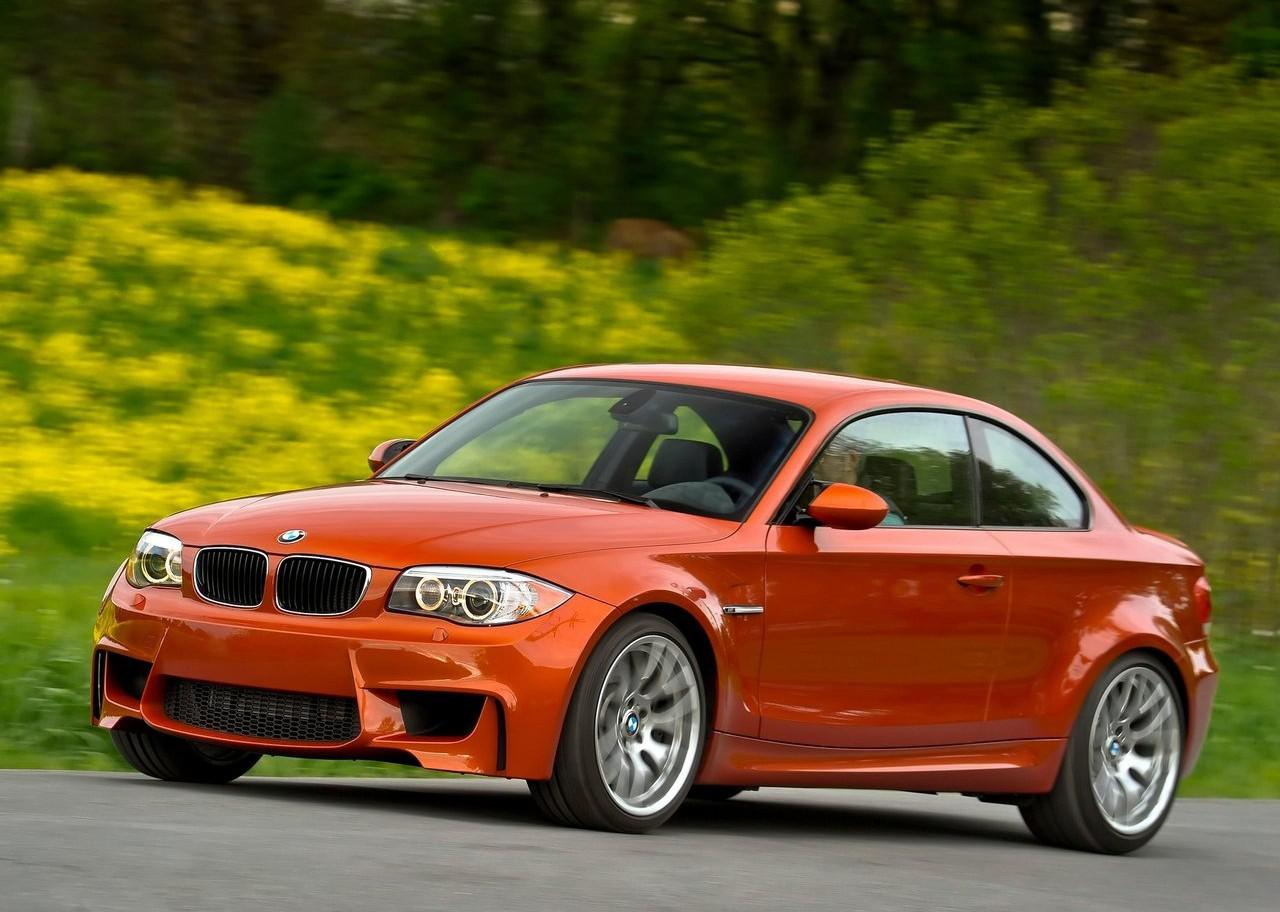Car: (56, 324, 1231, 911)
